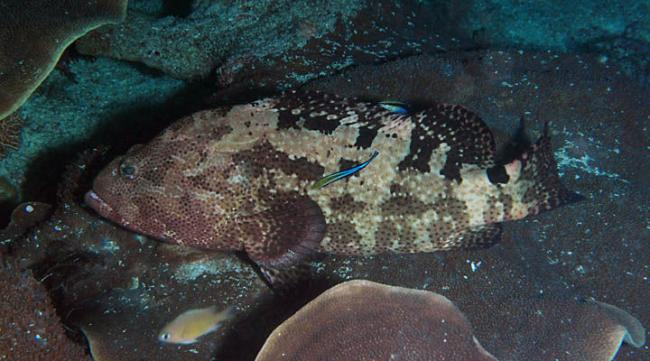fish: (84, 89, 590, 300)
